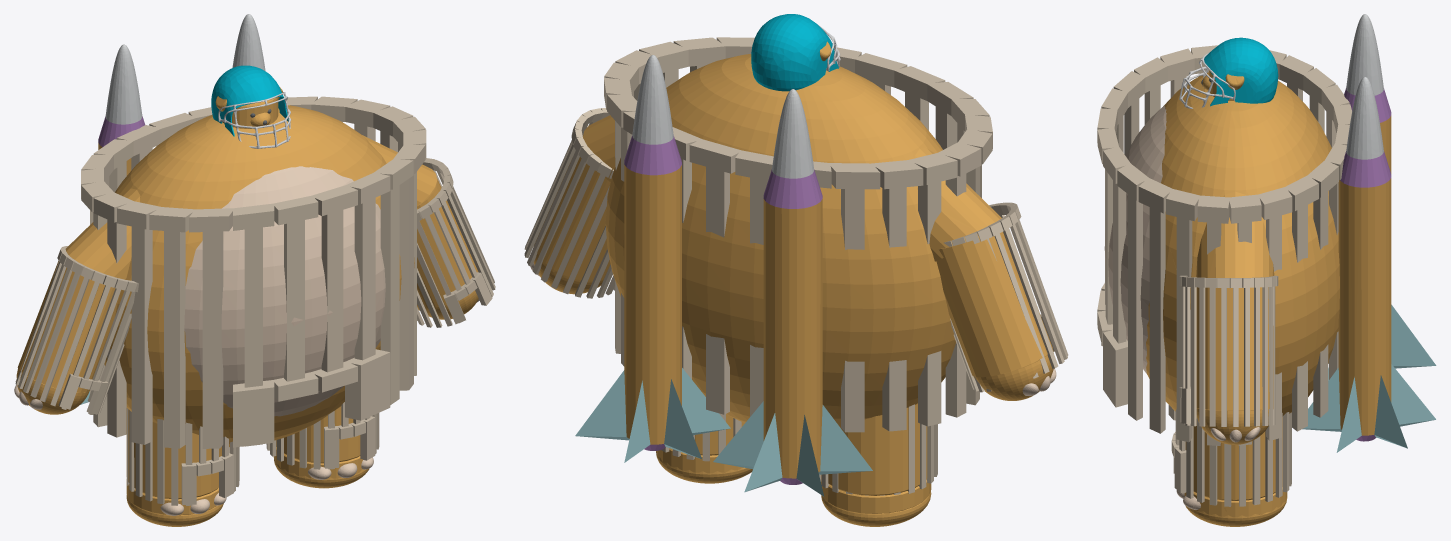
Rendered from astro_pip_1.glb.
3 views of the same model, side by side, from view 1: azimuth 30°, elevation 25°; view 2: azimuth 150°, elevation 25°; view 3: azimuth 270°, elevation 25° (orthographic). The views are drawn at different scales.
Parts seen in each view (by area): view 1: Mesh_Mesh_head_geo.001_lambert2SG.001; view 2: Mesh_Mesh_head_geo.001_lambert2SG.001; view 3: Mesh_Mesh_head_geo.001_lambert2SG.001.
Boxes of the visible parts, bbox=[...] form: Mesh_Mesh_head_geo.001_lambert2SG.001: bbox=[14, 14, 495, 526]; Mesh_Mesh_head_geo.001_lambert2SG.001: bbox=[524, 14, 1068, 526]; Mesh_Mesh_head_geo.001_lambert2SG.001: bbox=[1097, 14, 1436, 526].
Size of the model in its own units: 22.58 by 19.7 by 13.68.
